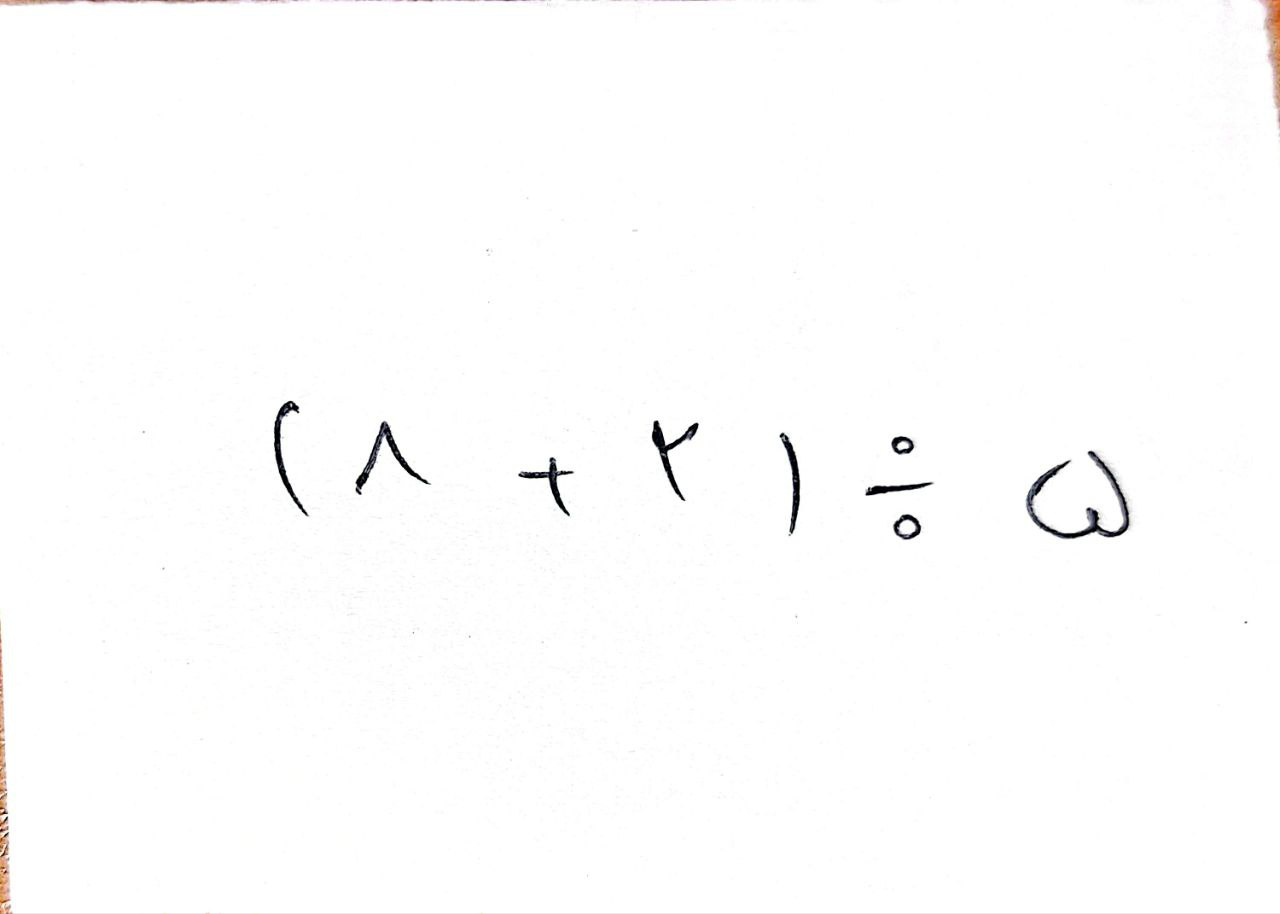character: (1024, 446, 1135, 539), (862, 429, 935, 544), (352, 416, 433, 498), (271, 398, 317, 516), (649, 417, 700, 503), (516, 453, 583, 518), (778, 432, 807, 537)
